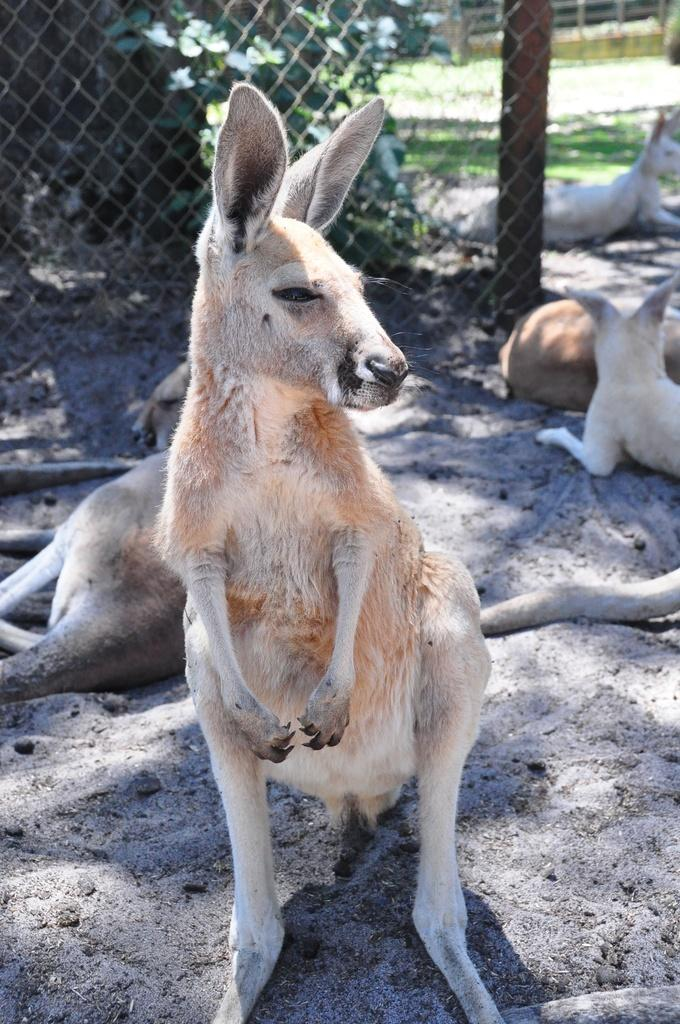kangaroo: (158, 84, 512, 1024), (0, 360, 218, 706), (432, 108, 680, 242), (529, 274, 679, 486)
